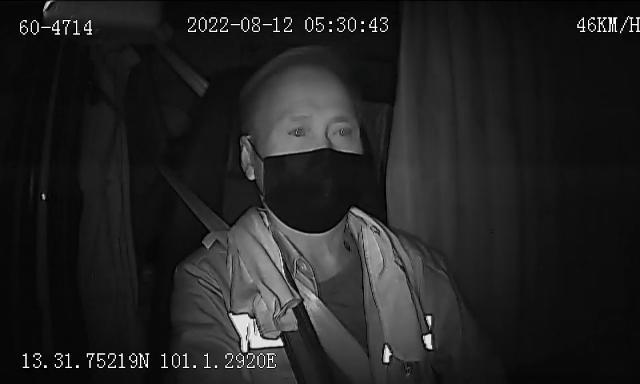SafeDriving: (324, 117, 359, 145), (281, 118, 315, 144)
Seatbelt: (164, 152, 276, 384)
